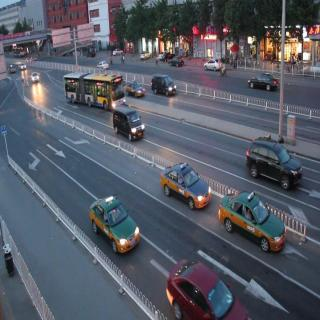BigCar: (63, 66, 128, 111)
Car: (165, 256, 248, 320), (219, 190, 286, 254), (246, 133, 304, 190), (90, 195, 141, 255), (161, 156, 213, 210), (113, 106, 146, 142), (248, 70, 280, 94), (151, 70, 178, 96), (126, 79, 147, 98), (201, 56, 223, 72), (167, 52, 184, 68), (30, 70, 42, 84), (94, 61, 110, 71), (86, 48, 97, 58), (112, 48, 124, 57), (8, 65, 17, 75), (19, 61, 27, 72)
